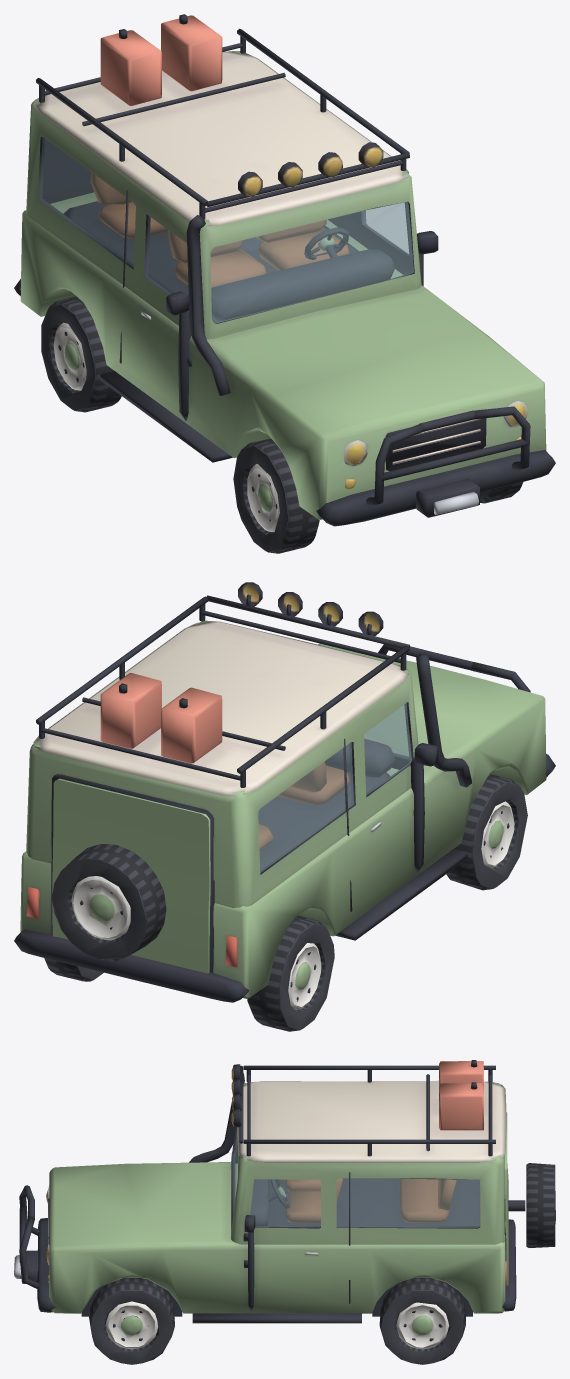
File: off-road-4x4.glb
3 views of the same model, one above another, from view 1: azimuth 30°, elevation 25°; view 2: azimuth 150°, elevation 25°; view 3: azimuth 270°, elevation 25° (orthographic). The views are drawn at different scales.
Parts seen in each view (by area): view 1: off-road-4x4_body, off-road-4x4_windows, off-road-4x4_rear_door; view 2: off-road-4x4_body, off-road-4x4_rear_door, off-road-4x4_windows; view 3: off-road-4x4_body, off-road-4x4_rear_door, off-road-4x4_windows.
Part boxes in pixels (x1,y1,x2,y2): off-road-4x4_body: [14, 14, 555, 526]; off-road-4x4_windows: [40, 137, 413, 322]; off-road-4x4_rear_door: [41, 296, 523, 553]; off-road-4x4_body: [14, 582, 555, 1002]; off-road-4x4_rear_door: [44, 774, 527, 1031]; off-road-4x4_windows: [258, 703, 411, 872]; off-road-4x4_body: [14, 1060, 516, 1323]; off-road-4x4_rear_door: [89, 1112, 555, 1364]; off-road-4x4_windows: [233, 1134, 479, 1227].
Bounding box in the file's own units: 2.13 × 2.52 × 4.96.
Materials: 6 (2 with a texture image).
